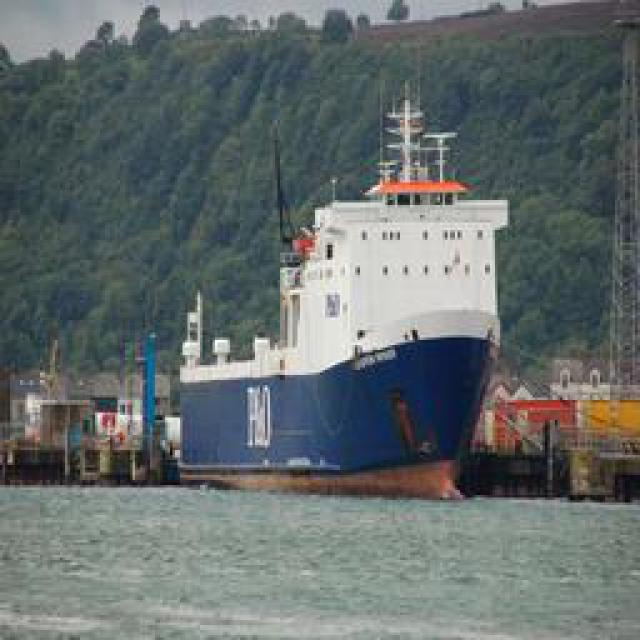Ship: (184, 69, 509, 489)
